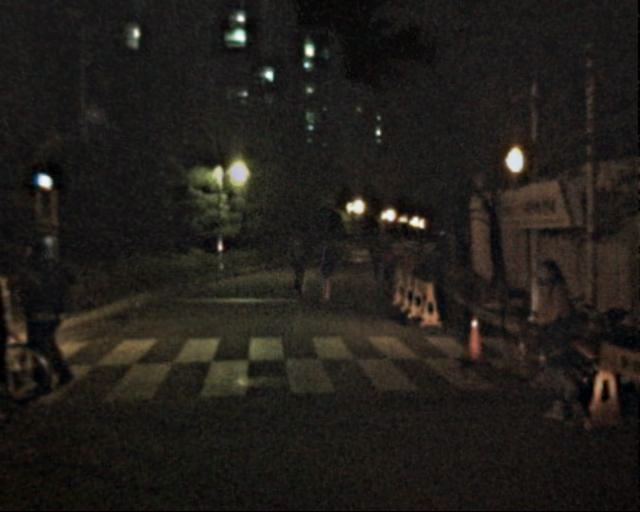person: (516, 258, 585, 426), (19, 234, 82, 388), (309, 236, 337, 304), (281, 234, 308, 301), (363, 240, 385, 294), (375, 240, 396, 290)
